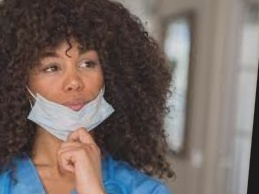mask_weared_incorrect: (23, 25, 115, 141)
